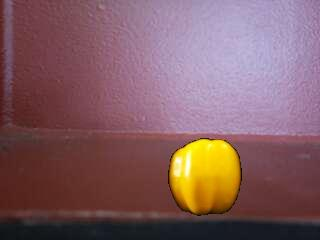Capsicum: (168, 136, 243, 218)
